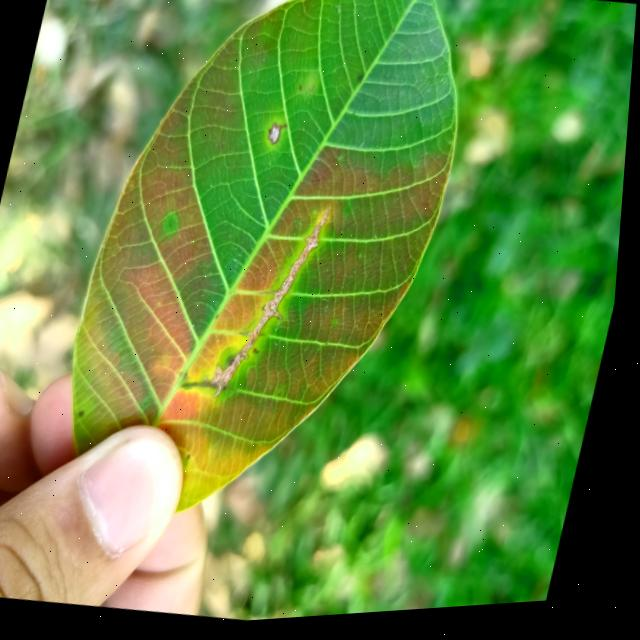Colletotrichum: (193, 457, 198, 461)
